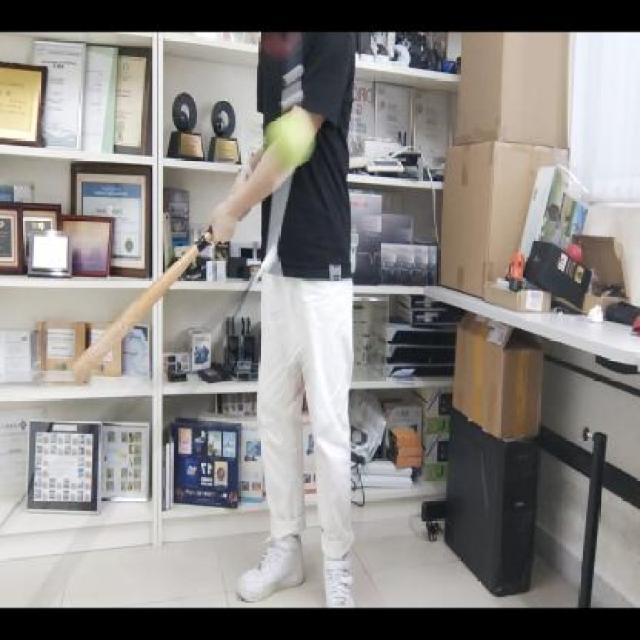baseball: (264, 108, 318, 174)
